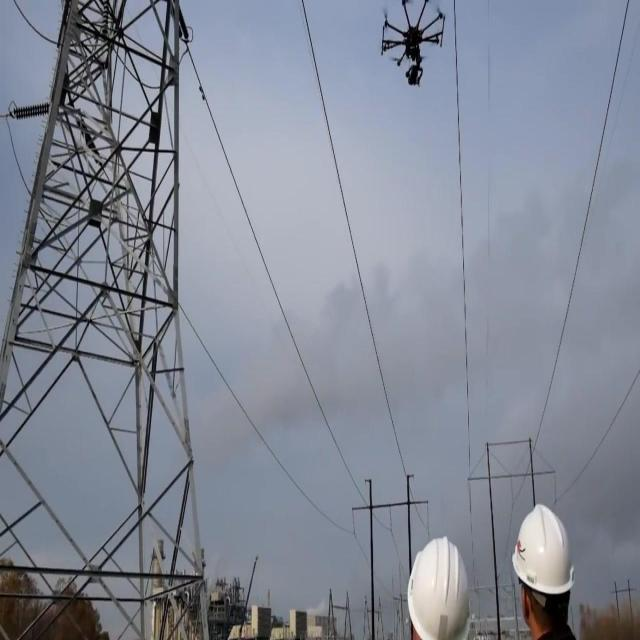drone: (380, 0, 448, 88)
